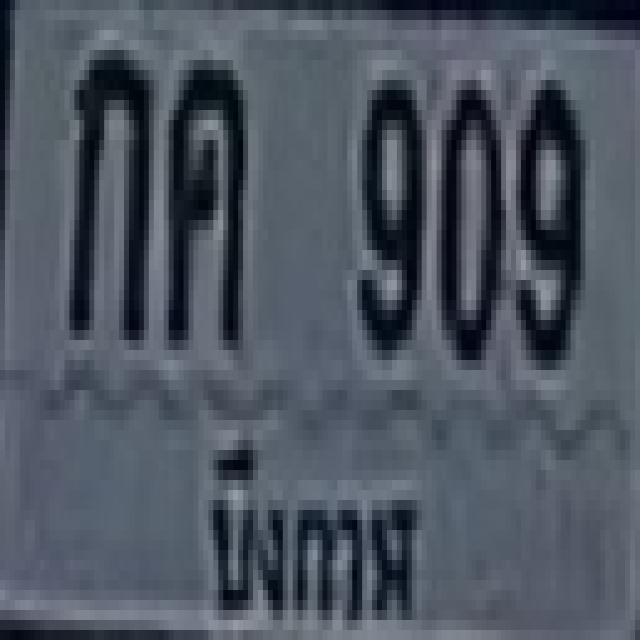0: (439, 70, 499, 350)
9: (511, 70, 580, 360), (355, 75, 419, 345)
A01: (64, 40, 149, 330)
A04: (164, 50, 243, 340)
BKN: (196, 424, 422, 632)
